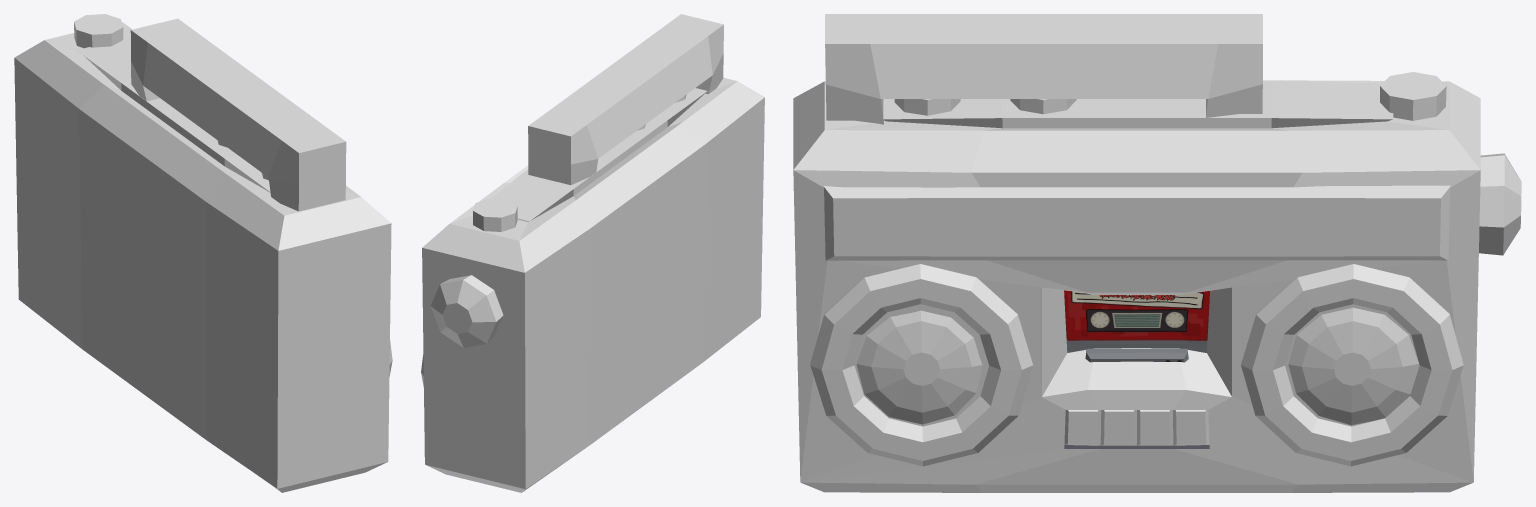
File: boombox2.fbx
3 views of the same model, side by side, from view 1: azimuth 30°, elevation 25°; view 2: azimuth 150°, elevation 25°; view 3: azimuth 270°, elevation 25° (orthographic). The views are drawn at different scales.
Visible parts, largest first — view 1: Cube.010; view 2: Cube.010; view 3: Cube.010, Cube.005.
Boxes of the visible parts, x1=… form: Cube.010: x1=14, y1=14, x2=392, y2=492; Cube.010: x1=421, y1=14, x2=764, y2=492; Cube.010: x1=793, y1=14, x2=1521, y2=492; Cube.005: x1=1064, y1=290, x2=1209, y2=362.
Size of the model in its own units: 69.21 by 172 by 260.
